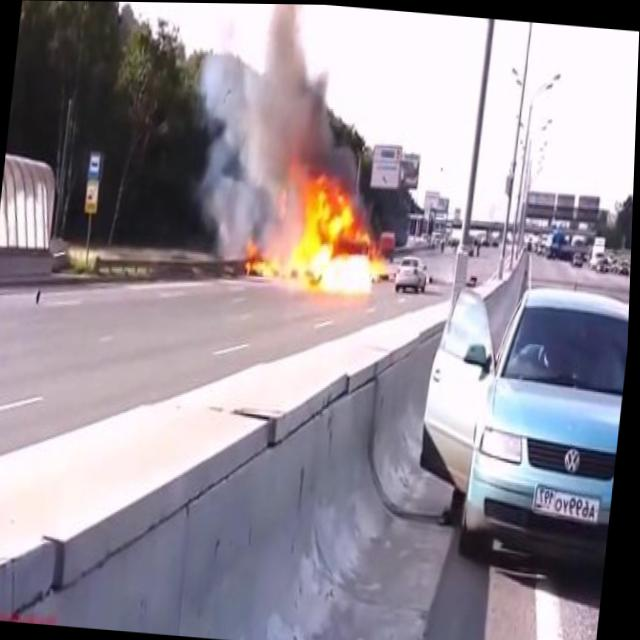fire: (233, 152, 403, 300)
